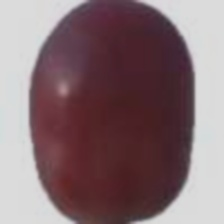grapes: (24, 65, 201, 201)
